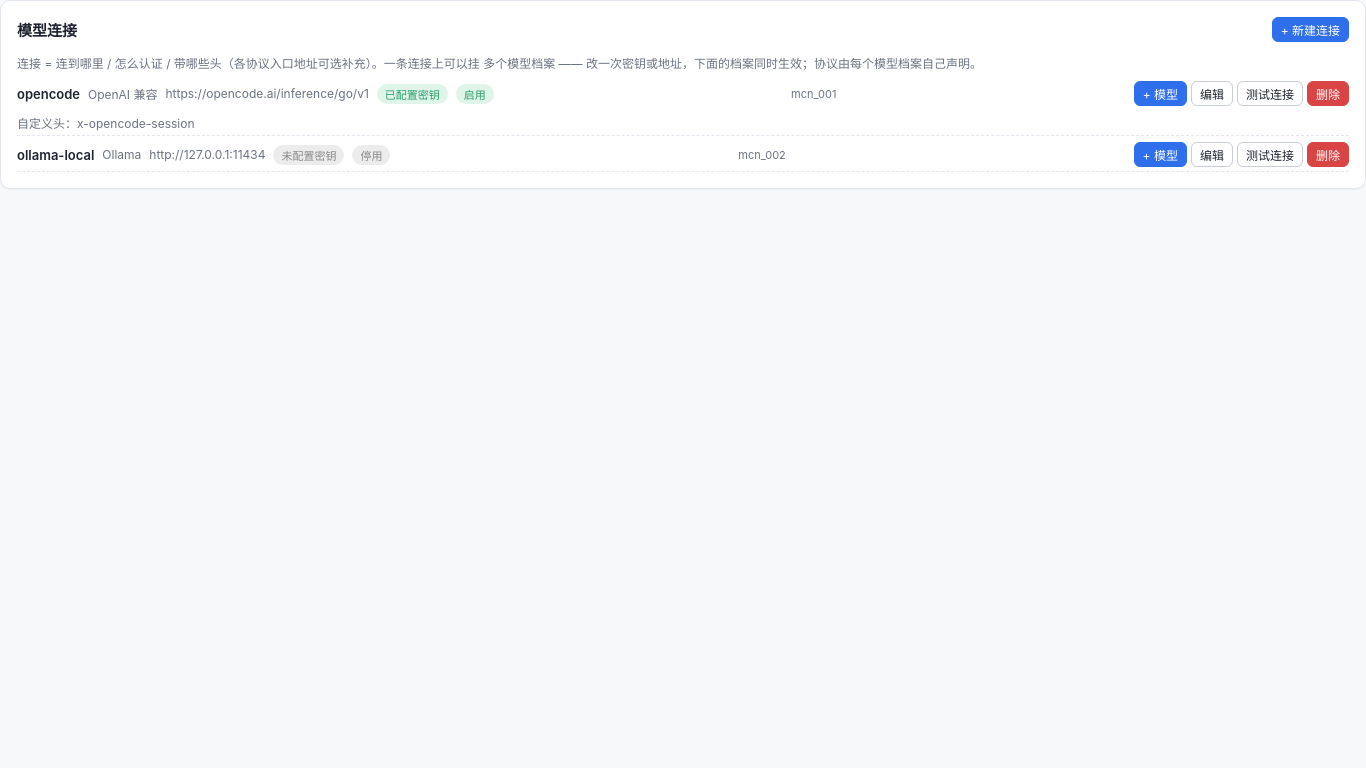
Test case: ConnectionsPanel · 模型连接 › 删除被引用的连接（409）：展示引用它的档案 id，不静默失败
The width and height of the screenshot is (1366, 768).
Click the button with test id "connection-delete-mcn_001": (1328, 94) [1307, 81, 1349, 106]
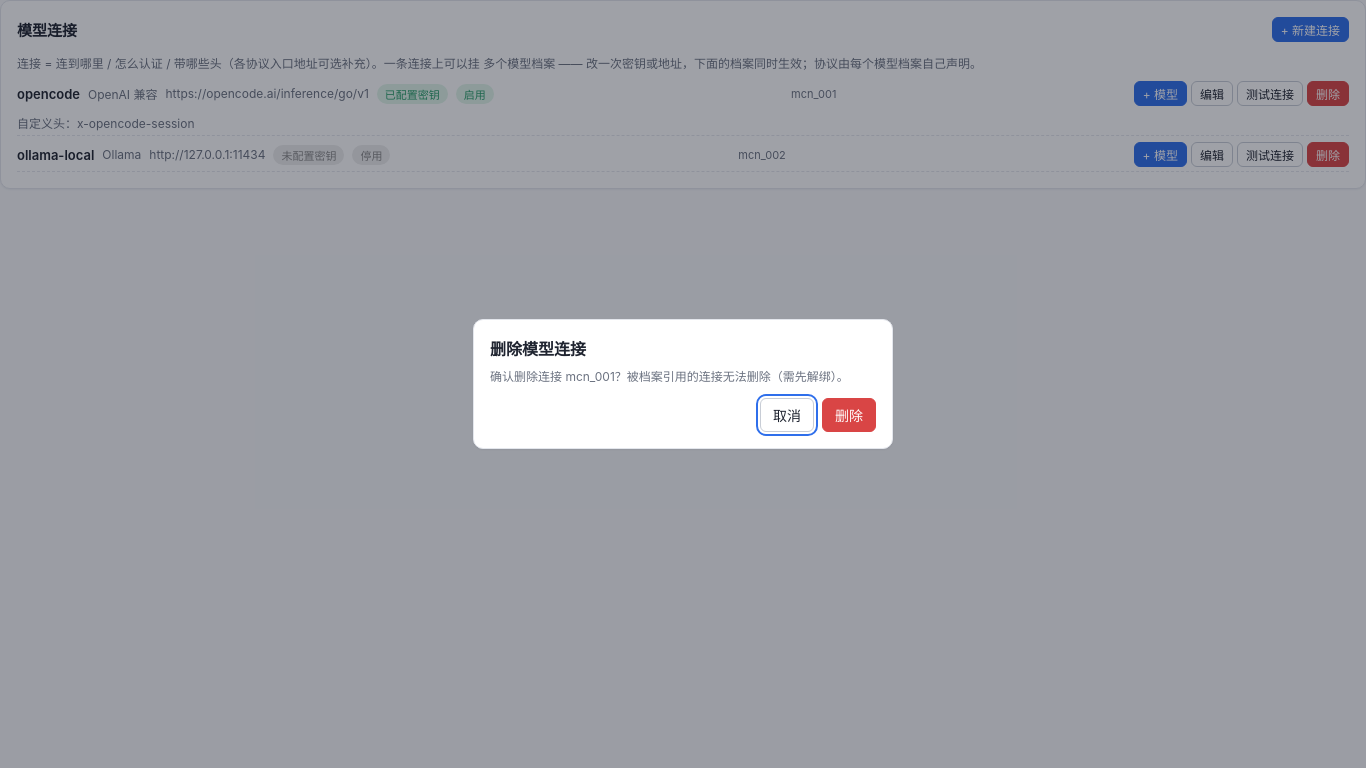
Click the button with test id "model-connection-delete-confirm-confirm": (849, 415) [822, 398, 876, 432]
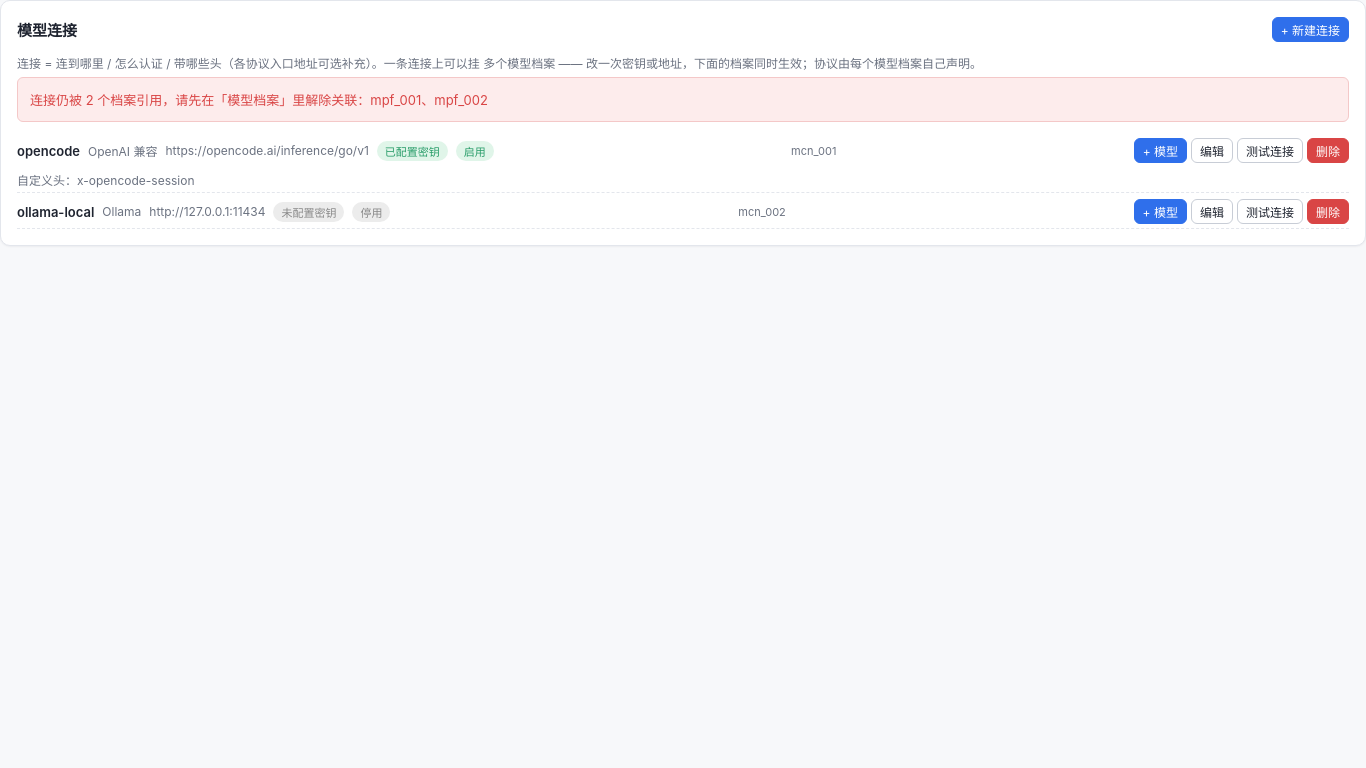
Expected: the element with test id "model-connection-delete-error" shows "mpf_001", [30, 92, 488, 108]
Expected: the element with test id "model-connection-delete-error" shows "mpf_002", [30, 92, 488, 108]
